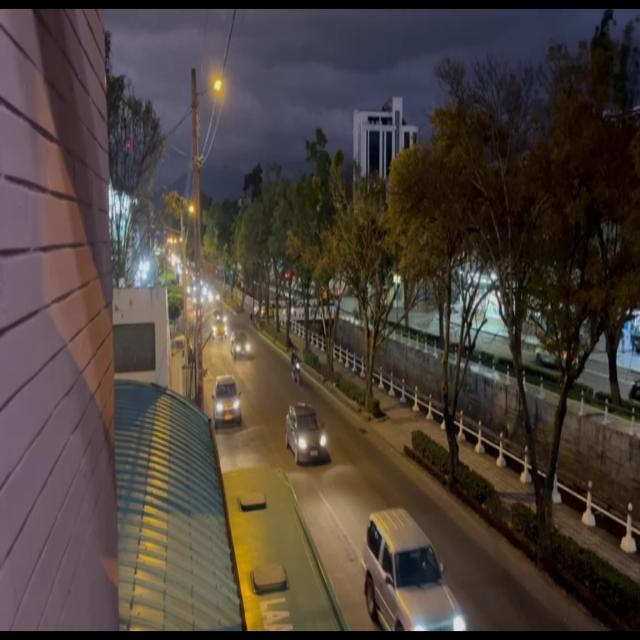MOTORCYCLE: (292, 356, 300, 385)
SUV: (368, 517, 462, 637), (285, 407, 324, 465), (214, 374, 241, 422), (233, 331, 252, 359)
